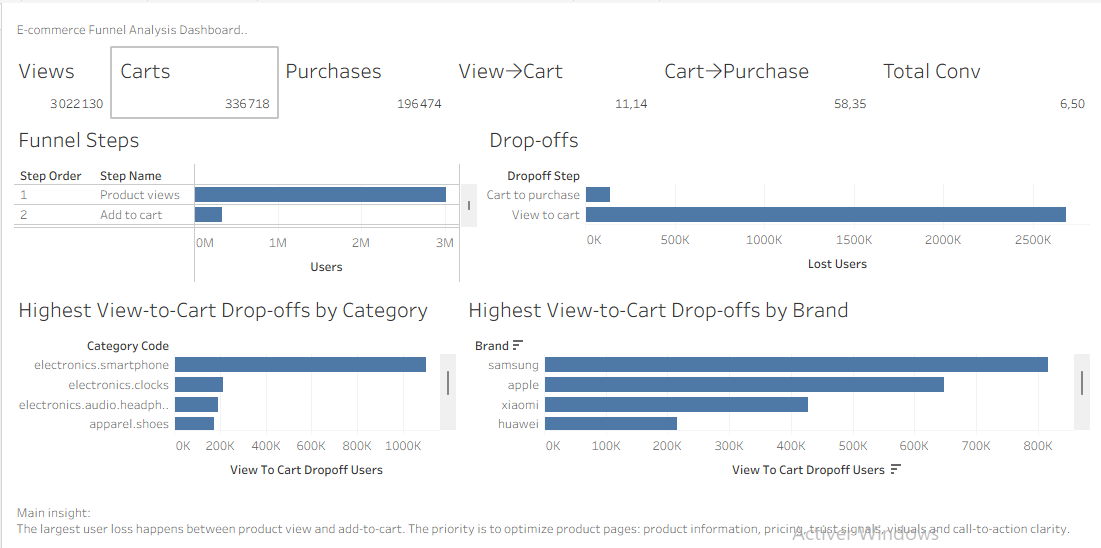

This screenshot's page, from the dashboard's own definition file:
{"tool":"tableau","page":{"name":"E-commerce Funnel Dashboard","canvas":[1100,800],"ordinal":0},"visuals":[{"type":"text","box":[8,8,1084,37.2]},{"type":"worksheet","title":"Views","mark":"Automatic","box":[8,45.2,101.6,69.2]},{"type":"worksheet","title":"Carts","mark":"Automatic","box":[109.6,45.2,165.7,69.2]},{"type":"worksheet","title":"Purchases","mark":"Automatic","box":[275.3,45.2,173,69.2]},{"type":"worksheet","title":"View→Cart","mark":"Automatic","box":[448.4,45.2,206,69.2]},{"type":"worksheet","title":"Cart→Purchase","mark":"Automatic","box":[654.4,45.2,218.8,69.2]},{"type":"worksheet","title":"Total Conv","mark":"Automatic","box":[873.2,45.2,218.8,69.2]},{"type":"worksheet","title":"Funnel Steps","mark":"Automatic","rows":["step_order","step_name"],"cols":["users"],"box":[8,114.4,471,169.6]},{"type":"worksheet","title":"Drop-offs","mark":"Bar","rows":["dropoff_step"],"cols":["lost_users"],"box":[479,114.4,613,169.6]},{"type":"worksheet","title":"Category Conversion","mark":"Bar","rows":["category_code"],"cols":["view_to_cart_dropoff_users"],"box":[8,284,450,202]},{"type":"worksheet","title":"Brand Conversion","mark":"Automatic","rows":["brand"],"cols":["view_to_cart_dropoff_users"],"box":[458,284,634,202]},{"type":"text","box":[8,486,1084,47]},{"type":"text","box":[8,533,1084,259]}]}

Visuals, with their boxes on the page's 1100x800 design canvas (x1, y1, x2, y2). These are canvas units, not pixel positions in the 1101x548 screenshot, which may show the page scaled, cropped or inside an application window:
text: [x1=8, y1=8, x2=1092, y2=45]
"Views" worksheet: [x1=8, y1=45, x2=110, y2=114]
"Carts" worksheet: [x1=110, y1=45, x2=275, y2=114]
"Purchases" worksheet: [x1=275, y1=45, x2=448, y2=114]
"View→Cart" worksheet: [x1=448, y1=45, x2=654, y2=114]
"Cart→Purchase" worksheet: [x1=654, y1=45, x2=873, y2=114]
"Total Conv" worksheet: [x1=873, y1=45, x2=1092, y2=114]
"Funnel Steps" worksheet: [x1=8, y1=114, x2=479, y2=284]
"Drop-offs" worksheet (Bar marks): [x1=479, y1=114, x2=1092, y2=284]
"Category Conversion" worksheet (Bar marks): [x1=8, y1=284, x2=458, y2=486]
"Brand Conversion" worksheet: [x1=458, y1=284, x2=1092, y2=486]
text: [x1=8, y1=486, x2=1092, y2=533]
text: [x1=8, y1=533, x2=1092, y2=792]
